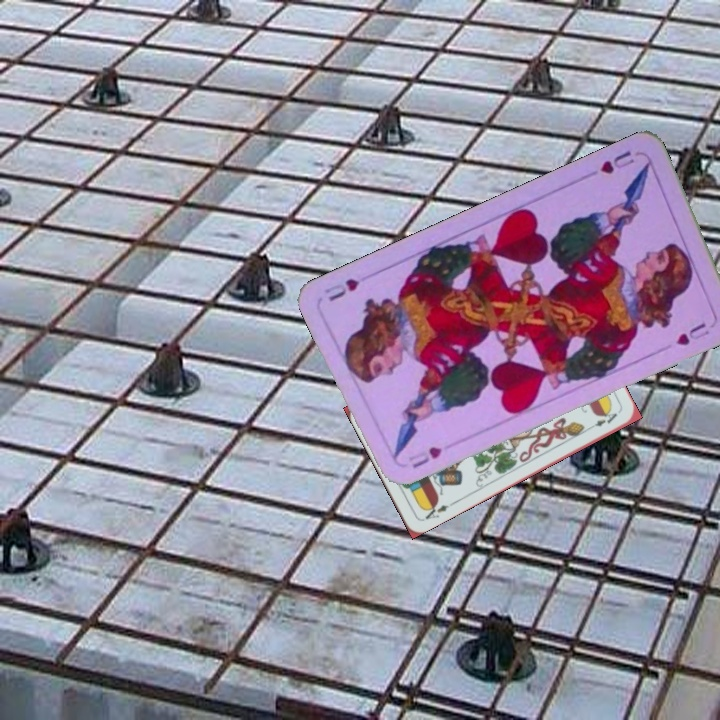EA: (418, 498, 456, 523)
HU: (596, 146, 642, 177), (404, 442, 445, 471)
